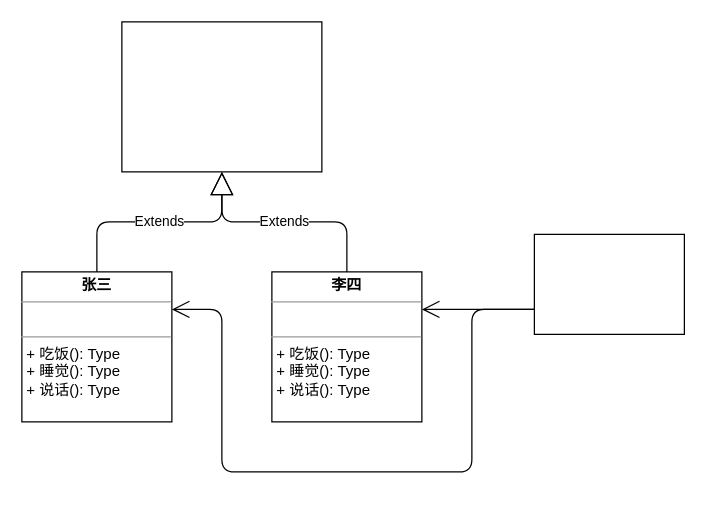
The diagram is 706 pixels wide and 511 high, and some of its shapes have lost their labels. Each missing label, with the centre of its shape:
<<Interface>> 人 + 吃饭(Type): Type + 睡觉(Type, Type): Type + 说话(Type, Type): Type: pixel 221 96
女娲 + 抟土造人(): 人: pixel 608 283
